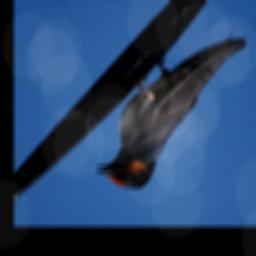Swallow: (96, 37, 248, 189)
